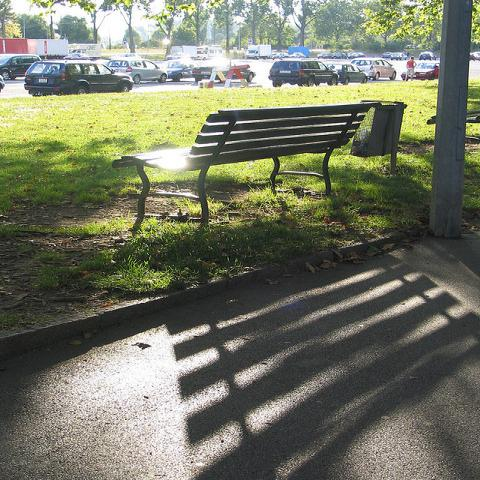car: (24, 60, 134, 97), (268, 58, 338, 87), (106, 58, 169, 84), (1, 53, 44, 81), (351, 58, 397, 81), (324, 64, 370, 84), (402, 63, 440, 80), (168, 68, 214, 82), (272, 52, 290, 60), (391, 52, 406, 60), (382, 50, 392, 58), (419, 54, 431, 60), (470, 54, 477, 62)
truck: (22, 60, 136, 96), (0, 38, 68, 63), (245, 44, 272, 60), (194, 46, 223, 60)
